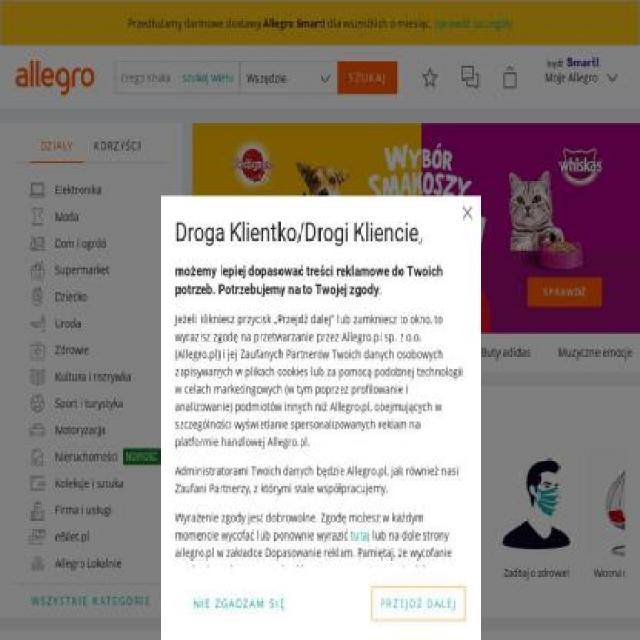button: (192, 123, 640, 334), (402, 449, 486, 589), (494, 449, 578, 589), (208, 449, 289, 589), (301, 449, 382, 589), (587, 448, 639, 590), (15, 584, 168, 618), (15, 176, 168, 204), (15, 203, 168, 231), (15, 229, 168, 257), (15, 256, 168, 284), (15, 283, 168, 311), (15, 309, 168, 337), (15, 336, 168, 364), (15, 363, 168, 391), (15, 389, 168, 417), (15, 416, 168, 444), (15, 443, 168, 471), (15, 469, 168, 497), (15, 496, 168, 524), (15, 523, 168, 551), (15, 549, 168, 577), (184, 586, 294, 620), (372, 586, 466, 620), (15, 59, 96, 96), (538, 60, 625, 94), (82, 130, 152, 164), (338, 60, 398, 94), (30, 130, 84, 164), (181, 68, 234, 86), (455, 196, 480, 230), (418, 60, 442, 94), (458, 60, 482, 94), (498, 60, 522, 94)
field: (114, 60, 178, 94)
